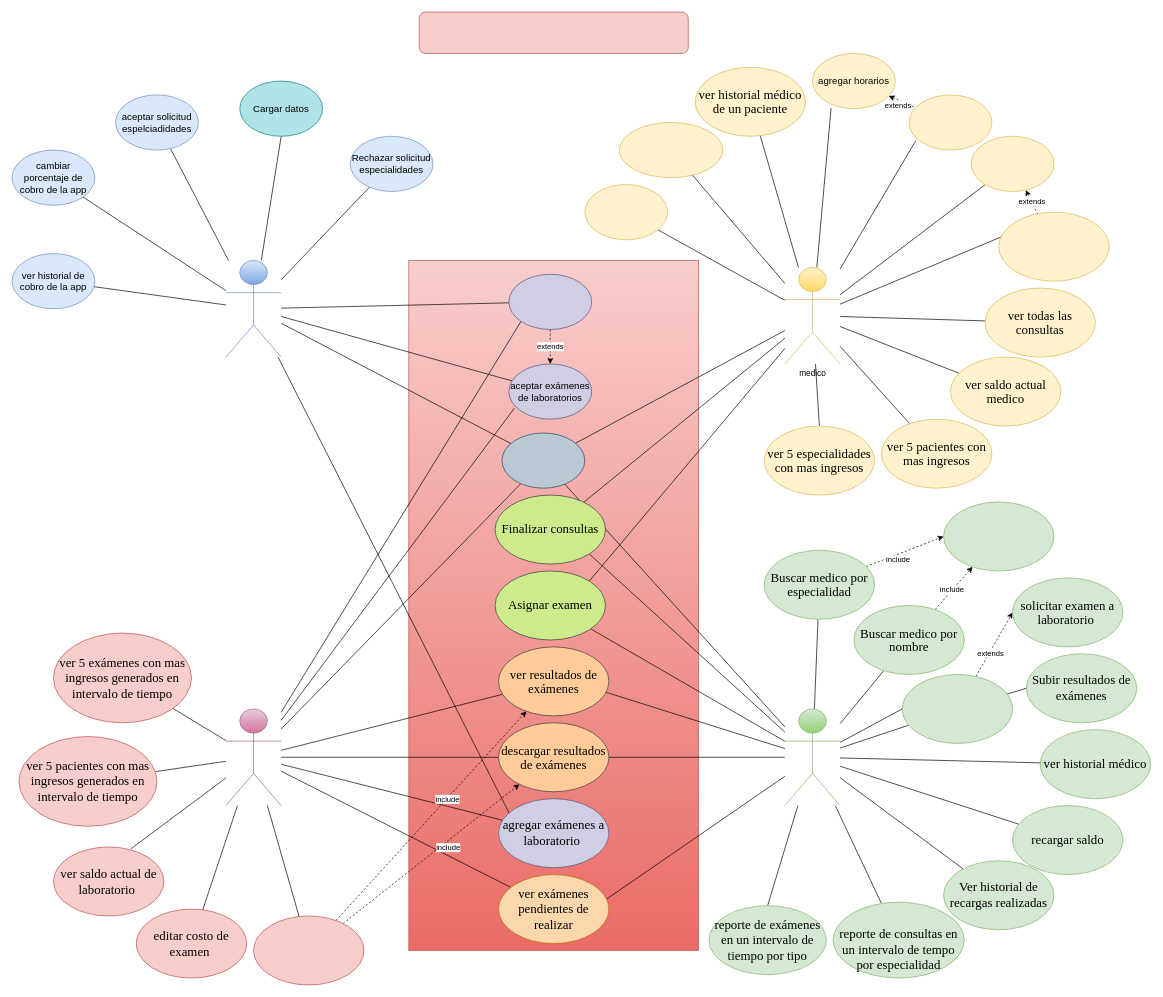
Some shapes in this 1163 by 997 pixel diagram are drawn without their labels. Each missing label, with the centre of its shape:
Administrador: the point at 253,308
Agendar cnsulta: the point at 998,536
agregar especialidad: the point at 626,212
agregar resultados de examen: the point at 308,950
Buscar laboratorio por nombre: the point at 957,708
DIAGRAMA DE CASOS DE USO: the point at 553,32
editar horarios: the point at 950,122
Editar precio de consultas por especialidad: the point at 671,150
Laboratorio: the point at 253,757
LOGIN: the point at 543,460
paciente: the point at 812,757
rechazar exámenes de laboratorios: the point at 550,301
Seleccionar día para ver consultas pendientes: the point at 1053,246
ver consultas pendientes: the point at 1012,163
